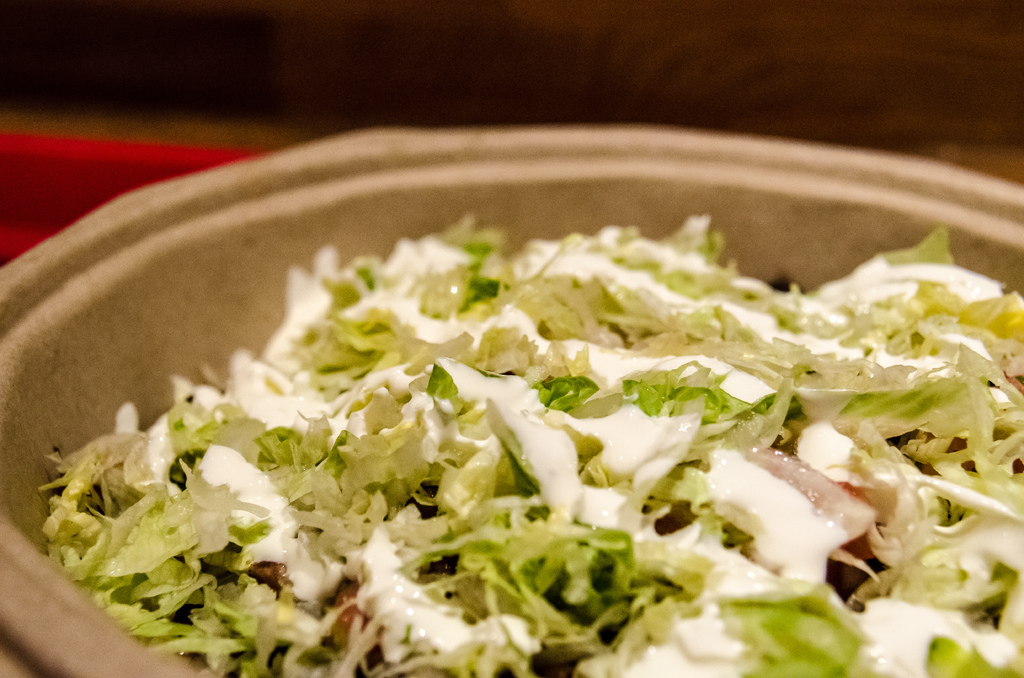Cabbage: (39, 212, 1024, 677)
